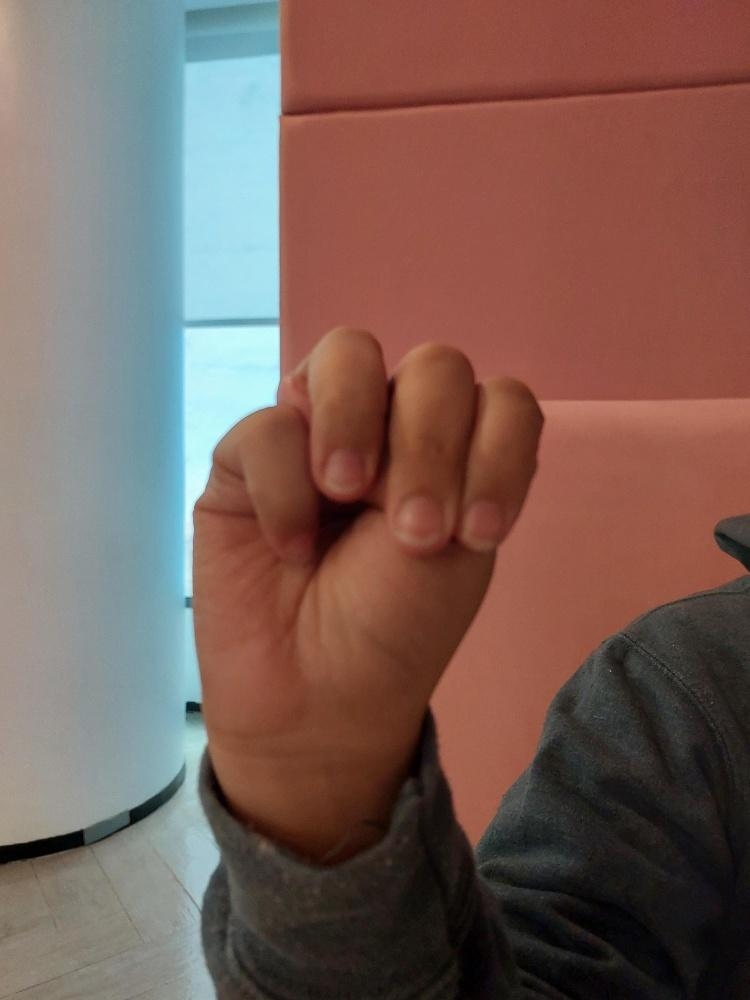m: (180, 315, 558, 789)
